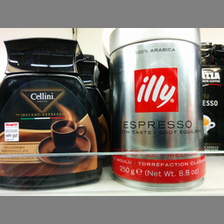coffee: (106, 28, 207, 190), (1, 39, 103, 191)
